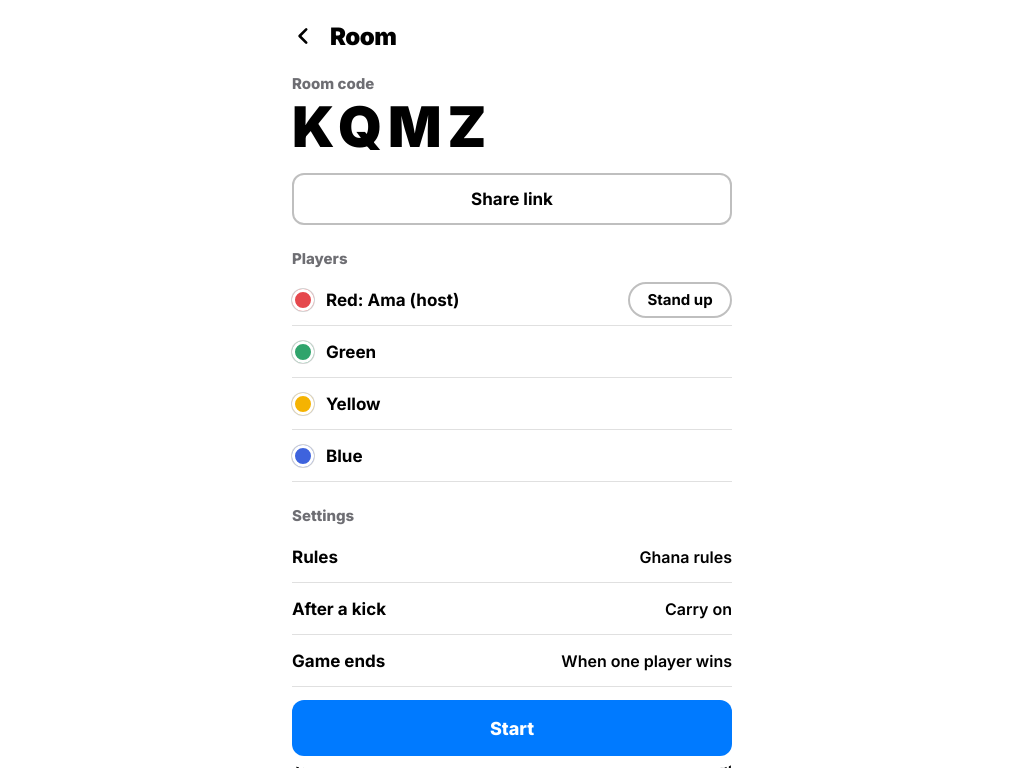
Test: Lobby › only offers to fill with computers when one person is seated
The image size is (1024, 768).
Step 1. Click the button "Start" → (512, 728), box top-left (292, 700), bottom-right (732, 756)
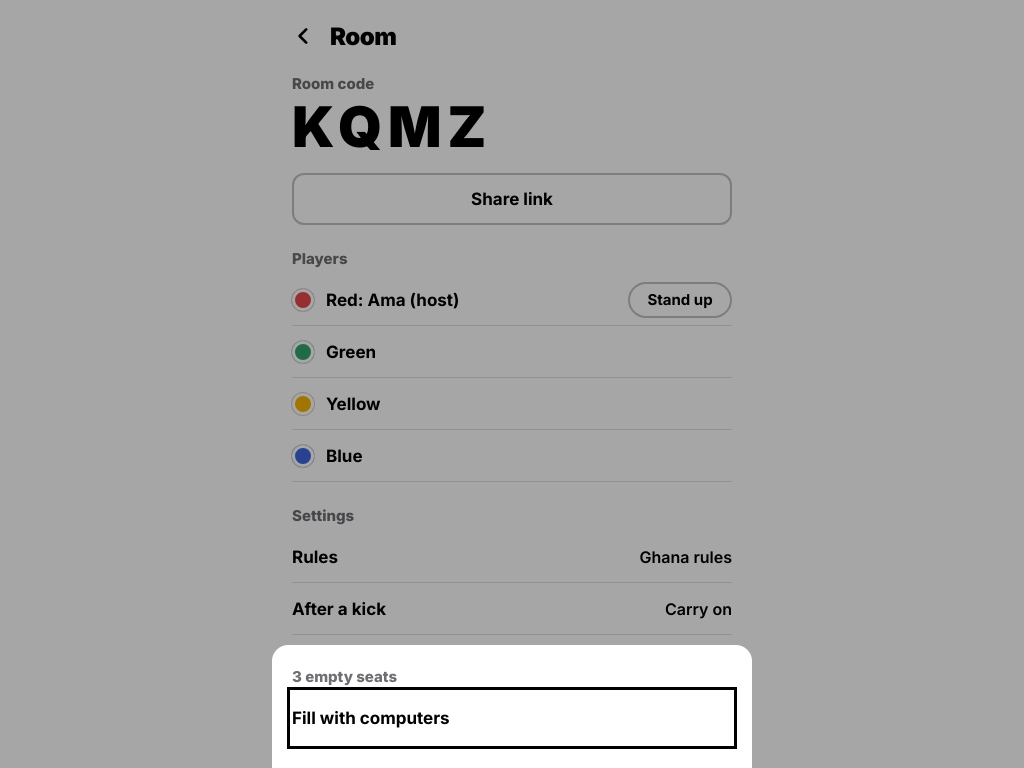
Result: the buttons read "Fill with computers", in this order at top-left (292, 692), bottom-right (732, 744)
